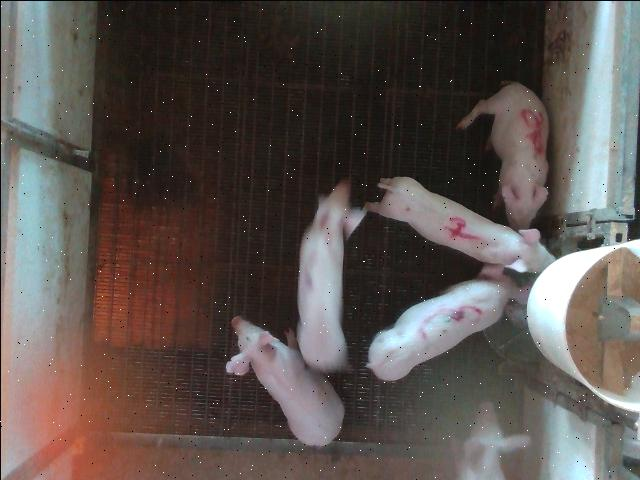pig-2: (296, 179, 365, 371)
pig-3: (366, 262, 530, 379)
pig-4: (365, 176, 554, 271)
pig-5: (456, 81, 548, 229)
